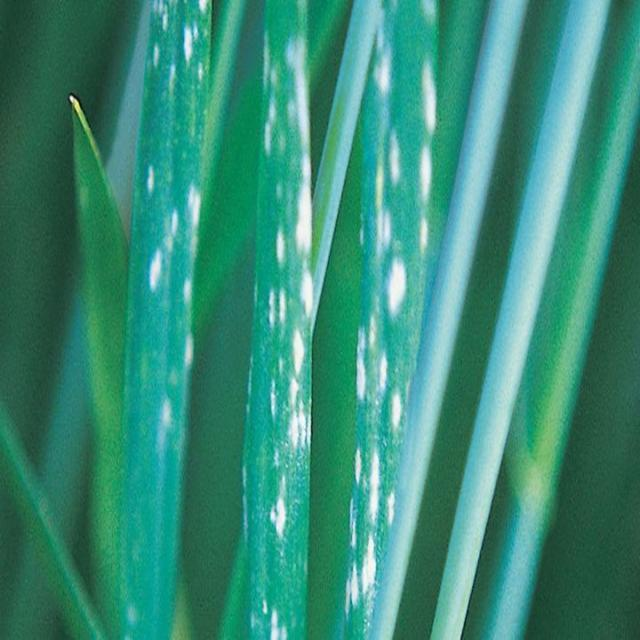wheat-powdery-mildew: (121, 0, 212, 640), (347, 0, 437, 640), (247, 0, 312, 640)
